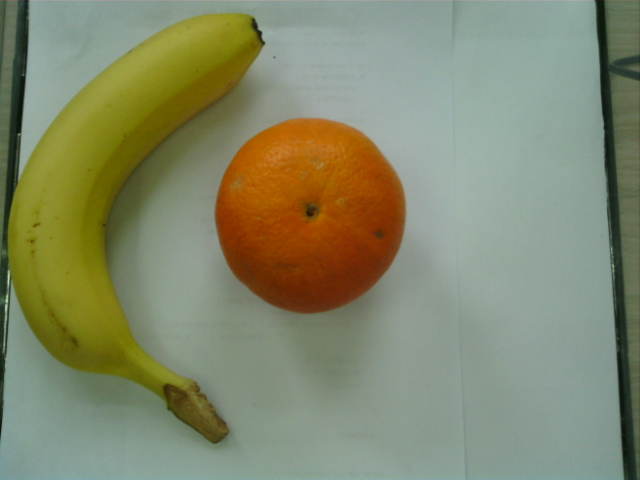normal_banana: (7, 19, 265, 376)
normal_orange: (218, 119, 404, 316)
